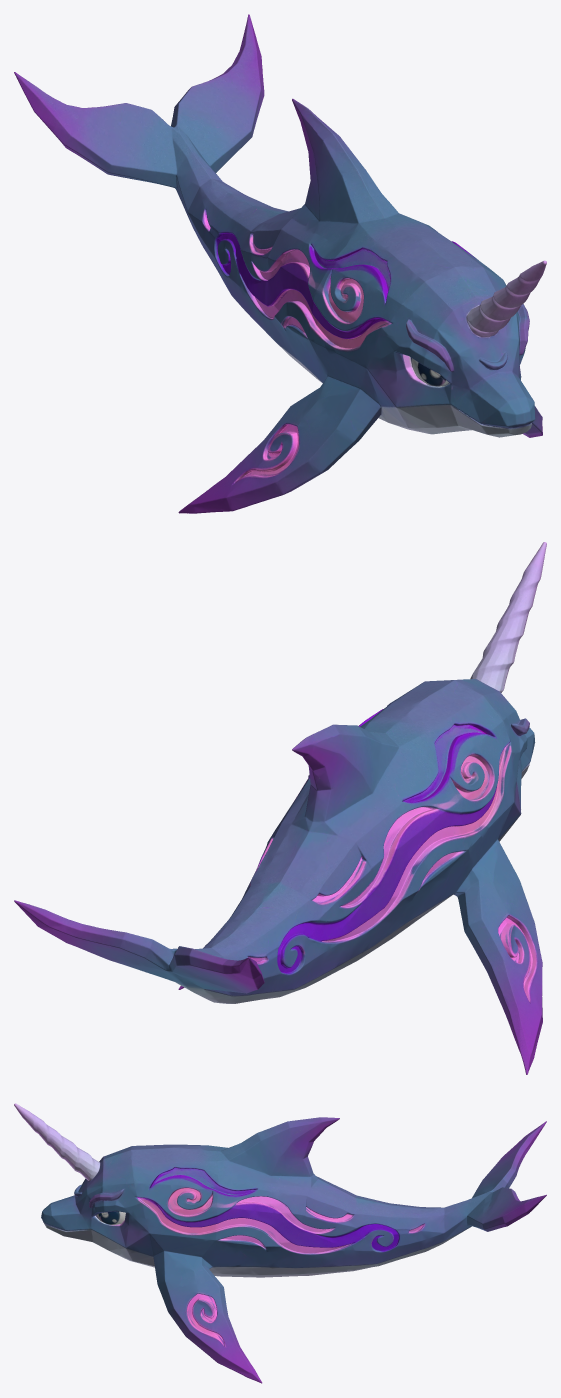
File: meshy_1793190758330.glb
3 views of the same model, one above another, from view 1: azimuth 30°, elevation 25°; view 2: azimuth 150°, elevation 25°; view 3: azimuth 270°, elevation 25° (orthographic). The views are drawn at different scales.
Size of the model in its own units: 0.9253 by 0.8873 by 1.9.
1 material, 1 textured.
